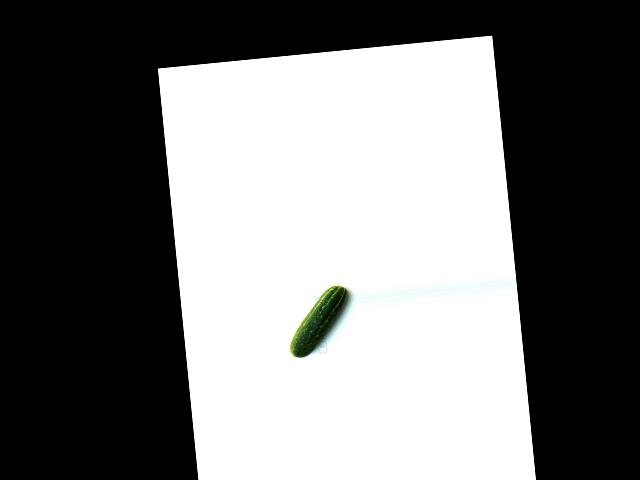cucumber: (284, 284, 353, 358)
